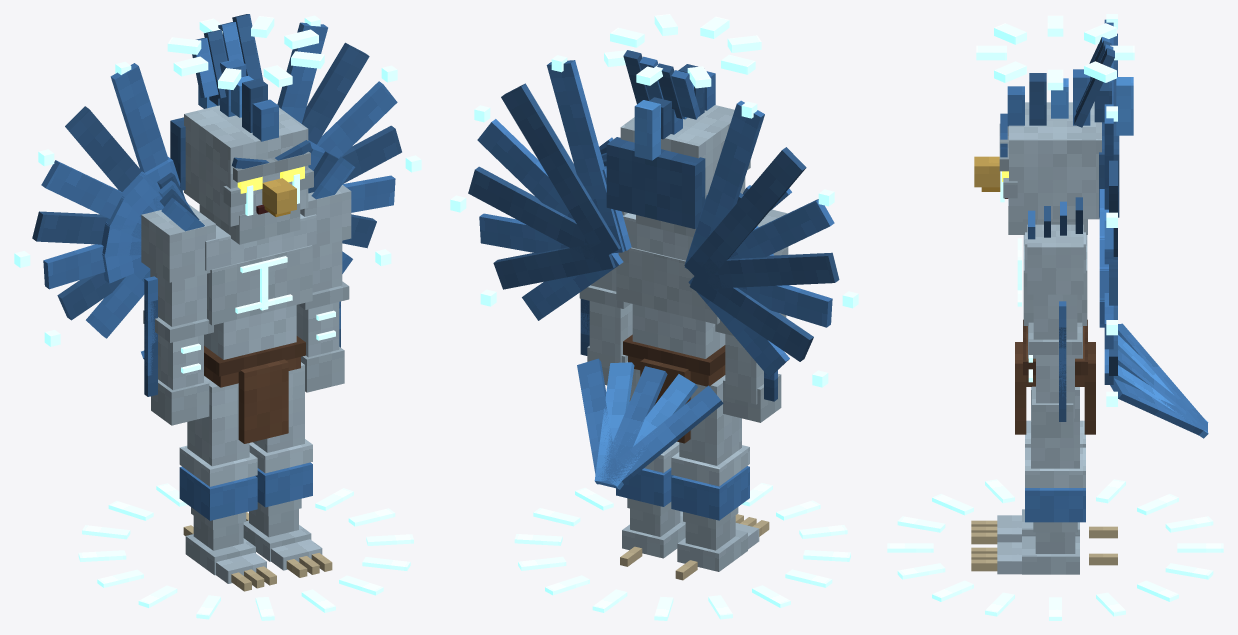
File: harpy_base_evo3.glb
The picture shows the model from 3 angles, left to right: view 1: azimuth 30°, elevation 25°; view 2: azimuth 150°, elevation 25°; view 3: azimuth 270°, elevation 25°; orthographic projection.
Visible parts, largest first — view 1: Torso, Head, ArmR, LegR, ArmL, LegL, Root; view 2: Torso, Head, LegR, Root, LegL, ArmR, ArmL; view 3: Head, Torso, ArmL, LegL, Root, LegR.
Boxes of the visible parts, box(x1,y1,x2,y2) form: Torso: box(14, 15, 421, 443); Head: box(167, 14, 324, 244); ArmR: box(141, 172, 215, 425); LegR: box(179, 376, 266, 583); ArmL: box(296, 147, 355, 392); LegL: box(243, 362, 322, 570); Root: box(78, 483, 413, 620); Torso: box(450, 55, 858, 489); Head: box(604, 14, 761, 236); LegR: box(671, 375, 759, 571); Root: box(514, 483, 850, 620); LegL: box(616, 361, 685, 558); ArmR: box(715, 185, 791, 422); ArmL: box(579, 137, 632, 385); Head: box(974, 15, 1134, 234); Torso: box(1015, 14, 1208, 438); ArmL: box(1027, 197, 1083, 437); LegL: box(997, 387, 1085, 574); Root: box(887, 479, 1223, 620); LegR: box(997, 420, 1085, 542).
Size of the model in its own units: 1.6 by 1.94 by 1.16.
25 materials, 25 textured.
